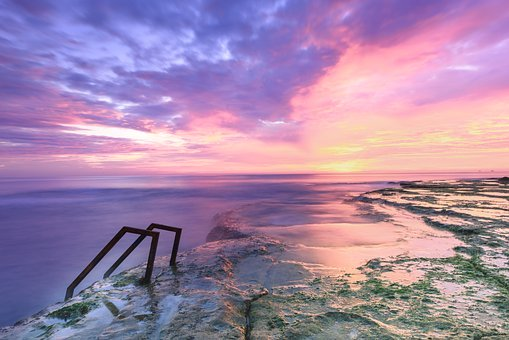field: (150, 184, 506, 340)
sky: (2, 1, 509, 178)
